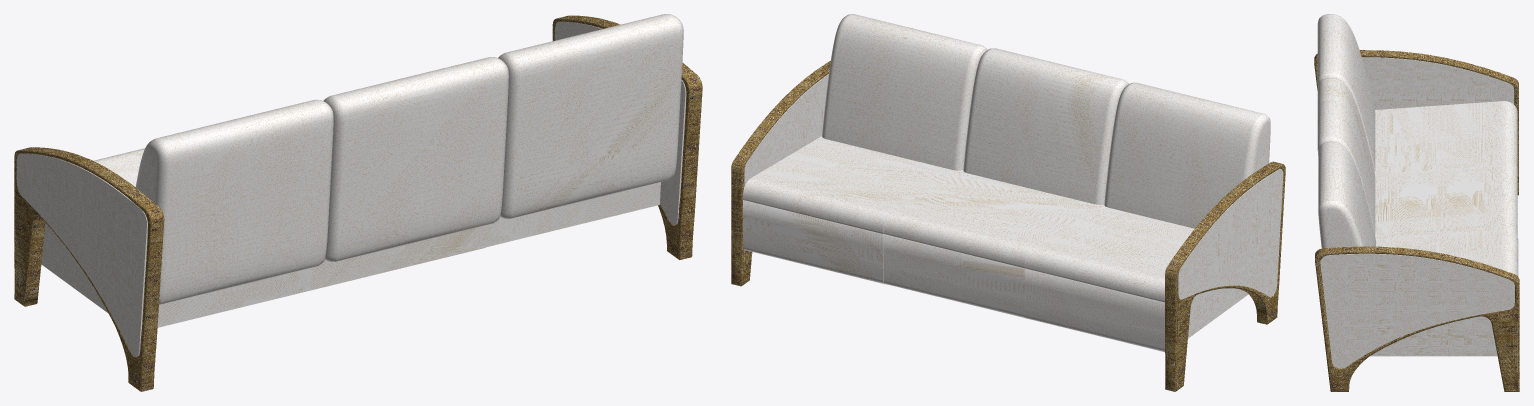
The picture shows the model from 3 angles, left to right: view 1: azimuth 30°, elevation 25°; view 2: azimuth 150°, elevation 25°; view 3: azimuth 270°, elevation 25°; orthographic projection. The views are drawn at different scales.
Parts seen in each view (by area): view 1: mesh3_mesh3-geometry, mesh4_mesh4-geometry, mesh2_mesh2-geometry, mesh5_mesh5-geometry, mesh1_mesh1-geometry; view 2: mesh5_mesh5-geometry, mesh3_mesh3-geometry, mesh4_mesh4-geometry, mesh2_mesh2-geometry, mesh1_mesh1-geometry; view 3: mesh5_mesh5-geometry, mesh2_mesh2-geometry, mesh4_mesh4-geometry, mesh1_mesh1-geometry, mesh3_mesh3-geometry.
Boxes of the visible parts, x1,y1,x2,y2 form: mesh3_mesh3-geometry: (135,33,599,304); mesh4_mesh4-geometry: (235,14,683,285); mesh2_mesh2-geometry: (16,21,686,356); mesh5_mesh5-geometry: (41,148,660,327); mesh1_mesh1-geometry: (14,15,702,391); mesh5_mesh5-geometry: (743,136,1248,352); mesh3_mesh3-geometry: (889,30,1270,228); mesh4_mesh4-geometry: (822,14,1199,222); mesh2_mesh2-geometry: (744,74,1283,299); mesh1_mesh1-geometry: (731,61,1285,391); mesh5_mesh5-geometry: (1370,101,1518,356); mesh2_mesh2-geometry: (1320,57,1514,368); mesh4_mesh4-geometry: (1317,43,1375,248); mesh1_mesh1-geometry: (1314,50,1519,391); mesh3_mesh3-geometry: (1317,14,1375,246).
Bounding box in the file's own units: 0.8555 × 0.364 × 0.3684.
